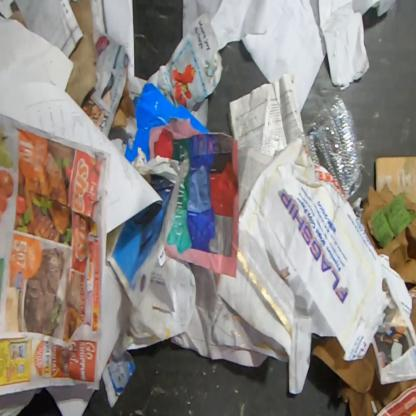cardboard: (309, 182, 415, 415), (124, 82, 211, 164), (375, 155, 415, 206), (110, 79, 135, 130)
rigid_plastic: (298, 94, 366, 200)
